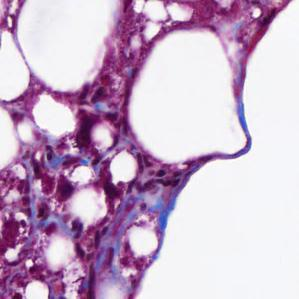inflammation: (21, 141, 84, 206)
